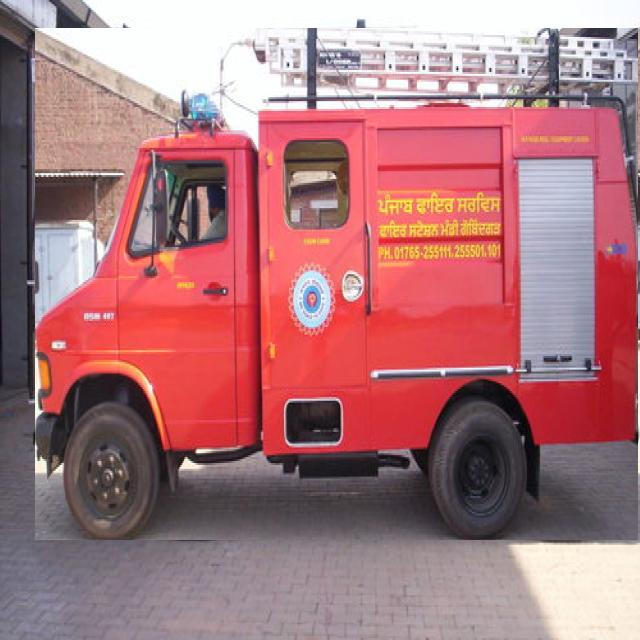emergency: (35, 29, 638, 540)
